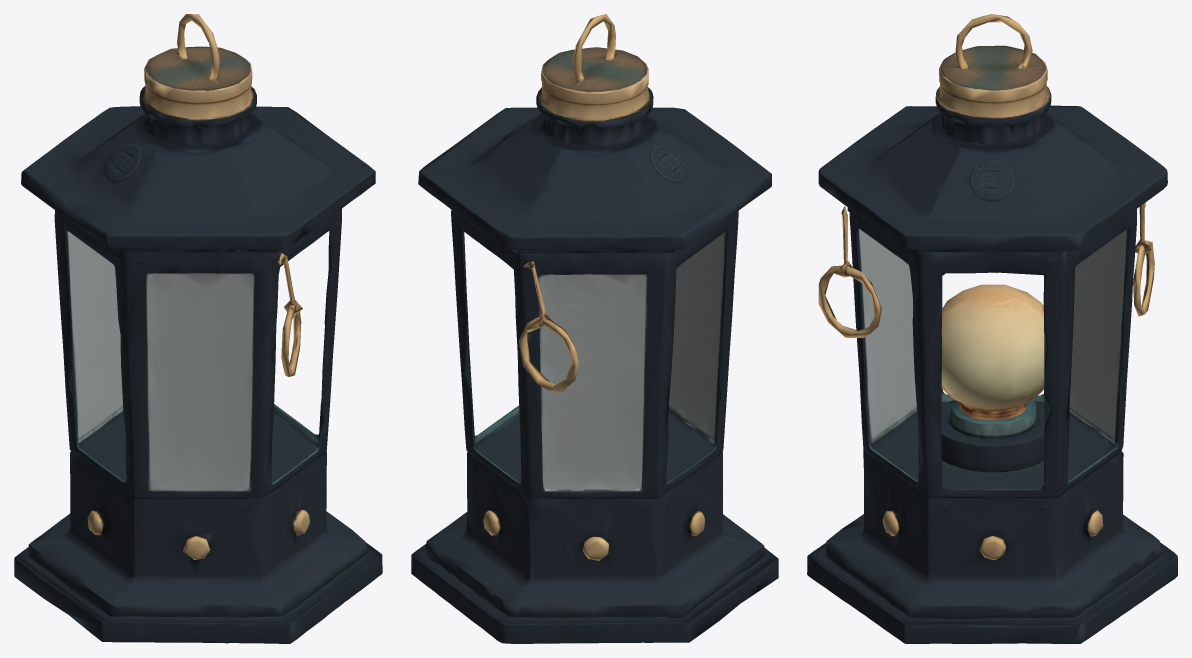
Rendered from emitter.glb.
3 views of the same model, side by side, from view 1: azimuth 30°, elevation 25°; view 2: azimuth 150°, elevation 25°; view 3: azimuth 270°, elevation 25° (orthographic).
Visible parts, largest first — view 1: tripo_node_508f0e68-978c-4127-8b8c-953e457042f9; view 2: tripo_node_508f0e68-978c-4127-8b8c-953e457042f9; view 3: tripo_node_508f0e68-978c-4127-8b8c-953e457042f9.
Part boxes in pixels (left/top/right/bottom): tripo_node_508f0e68-978c-4127-8b8c-953e457042f9: left=14, top=14, right=382, bottom=643; tripo_node_508f0e68-978c-4127-8b8c-953e457042f9: left=411, top=14, right=778, bottom=643; tripo_node_508f0e68-978c-4127-8b8c-953e457042f9: left=807, top=14, right=1177, bottom=643.
Size of the model in its own units: 0.2623 by 0.5 by 0.2993.
Materials: 1 (1 with a texture image).
